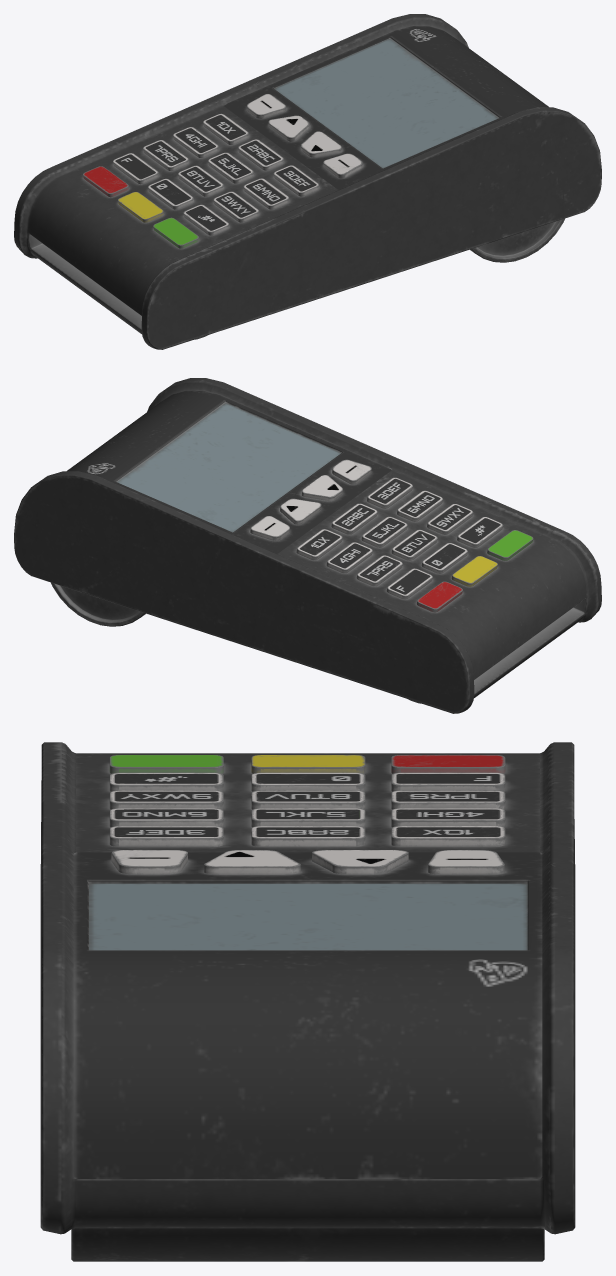
File: SM_PosTerminalS.fbx
The picture shows the model from 3 angles, top to bottom: view 1: azimuth 30°, elevation 25°; view 2: azimuth 150°, elevation 25°; view 3: azimuth 270°, elevation 25°; orthographic projection. The views are drawn at different scales.
Parts seen in each view (by area): view 1: SM_PosTerminalS_LOD0; view 2: SM_PosTerminalS_LOD0; view 3: SM_PosTerminalS_LOD0.
Boxes of the visible parts, x1=… form: SM_PosTerminalS_LOD0: x1=14, y1=14, x2=601, y2=349; SM_PosTerminalS_LOD0: x1=14, y1=378, x2=601, y2=713; SM_PosTerminalS_LOD0: x1=40, y1=742, x2=575, y2=1261.
Size of the model in its own units: 27.61 by 14.02 by 8.82.
1 material, 1 textured.
